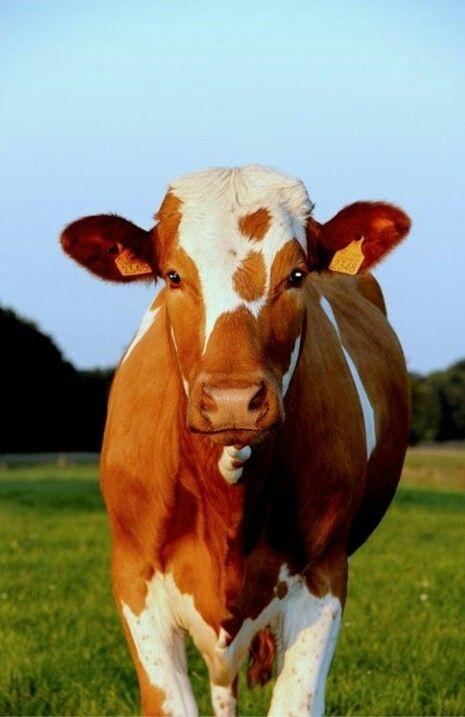cow: (28, 140, 456, 706)
